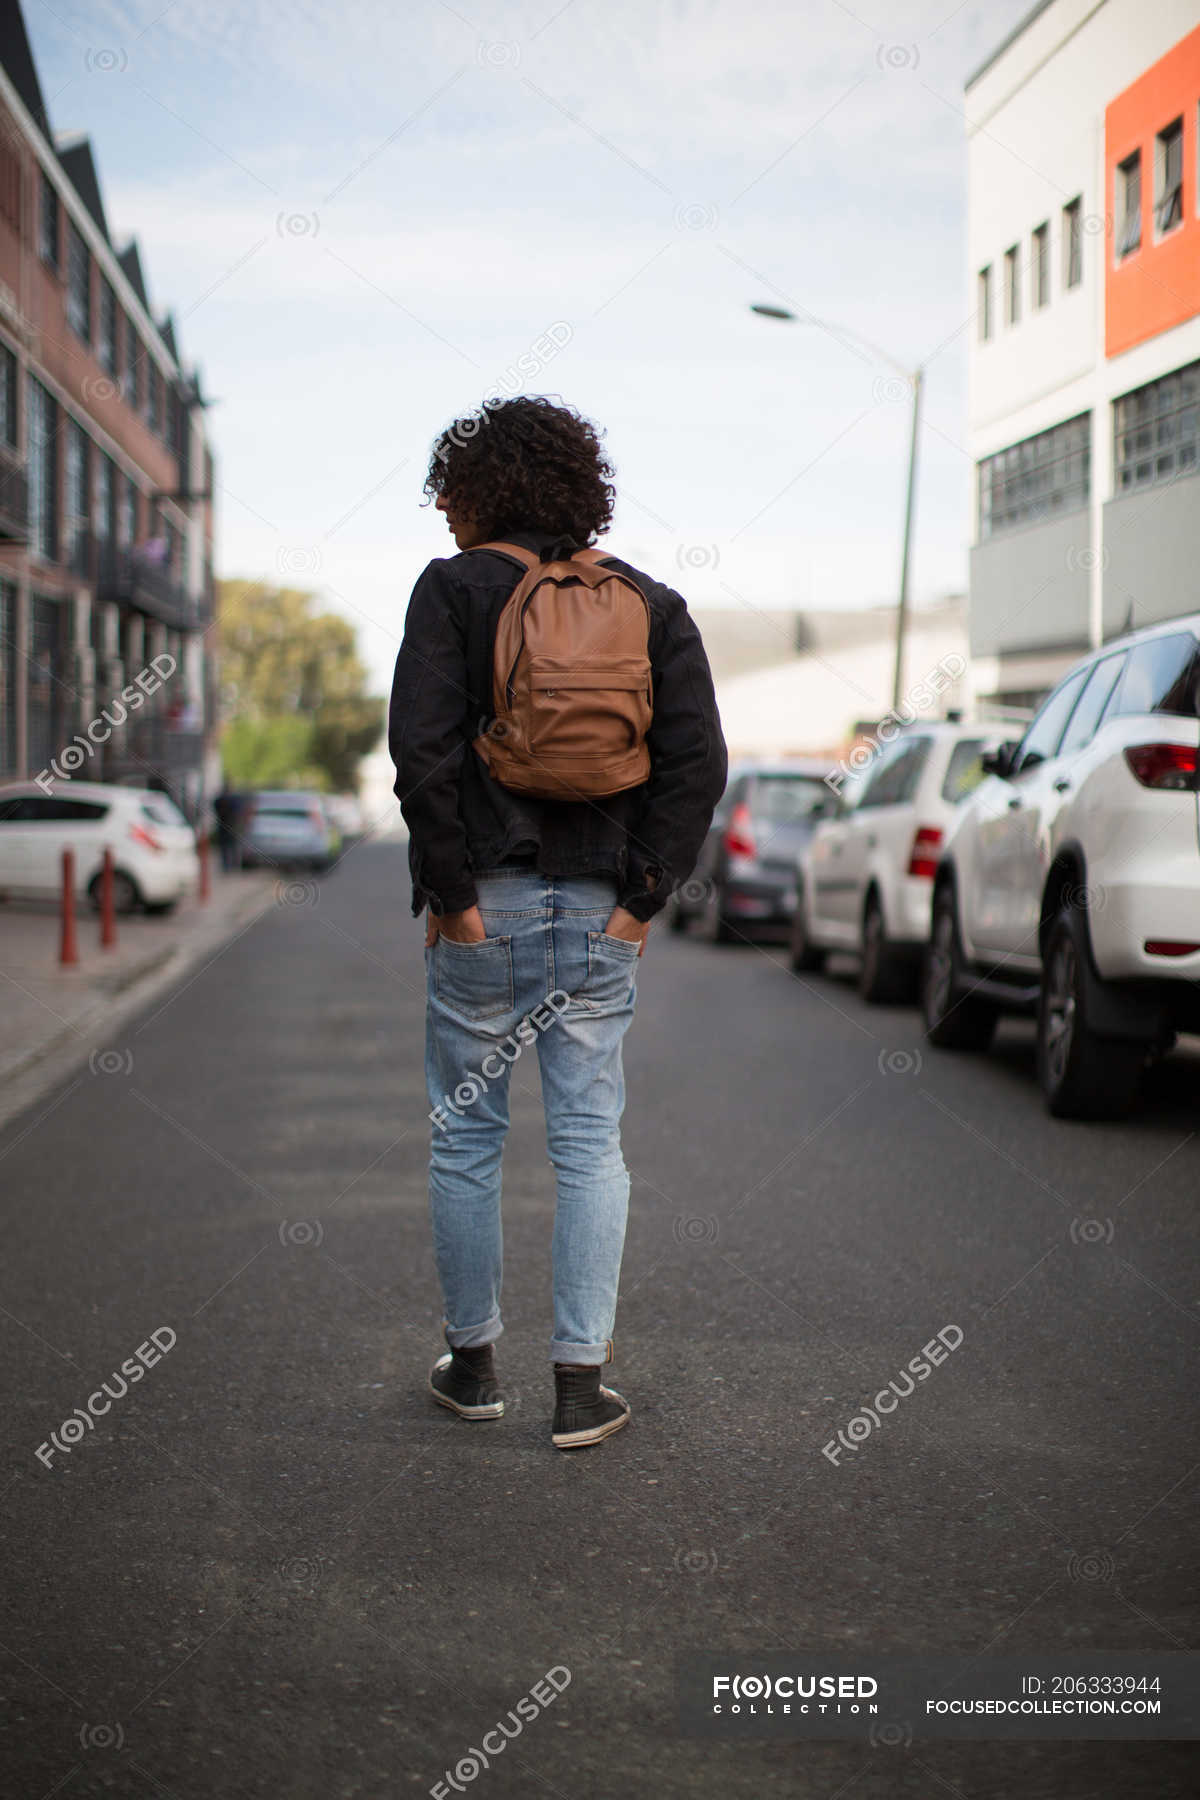car: (919, 617, 1200, 1126), (790, 719, 1019, 1014), (687, 748, 836, 956), (1, 773, 197, 921), (226, 785, 346, 875)
person: (394, 397, 736, 1458)
